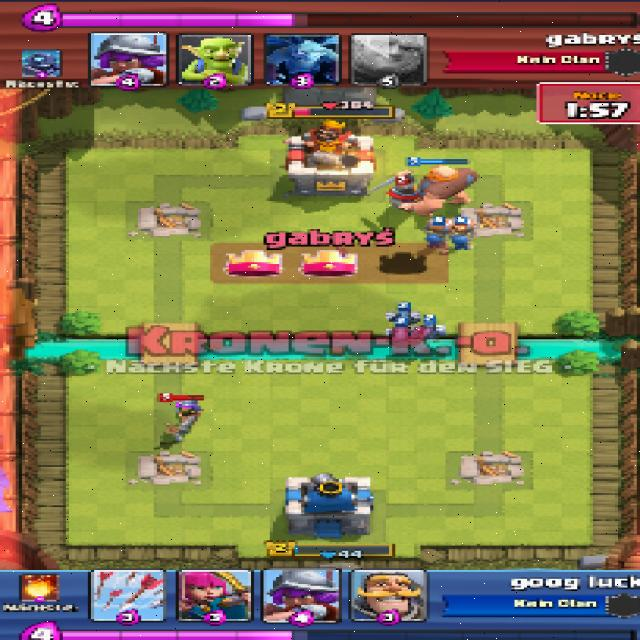Enemy-Knight: (375, 170, 420, 210)
Enemy-Musketeer: (171, 395, 204, 434)
Player-Giant: (412, 164, 480, 214)
Player-Minion: (382, 306, 422, 324), (416, 318, 445, 340), (387, 326, 412, 342)
Player-Wallbreaker: (426, 218, 456, 250), (452, 218, 482, 249)
